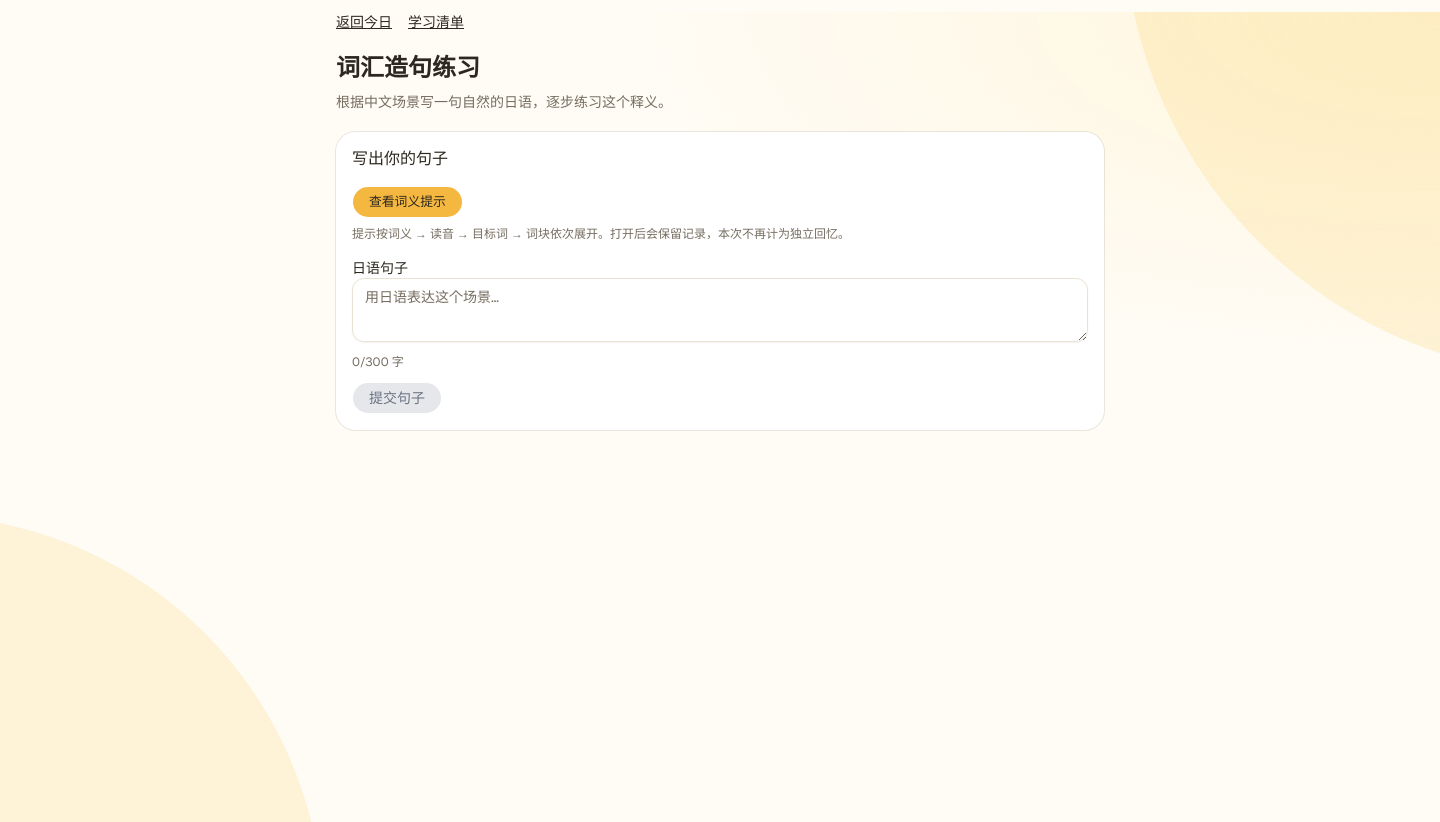
Scenario: membership UI › preserves input across an allowance failure and interface switch
The image size is (1440, 822).
In the text box labelled "日语句子": [720, 310] box [352,278,1088,342], type "予定があります。"
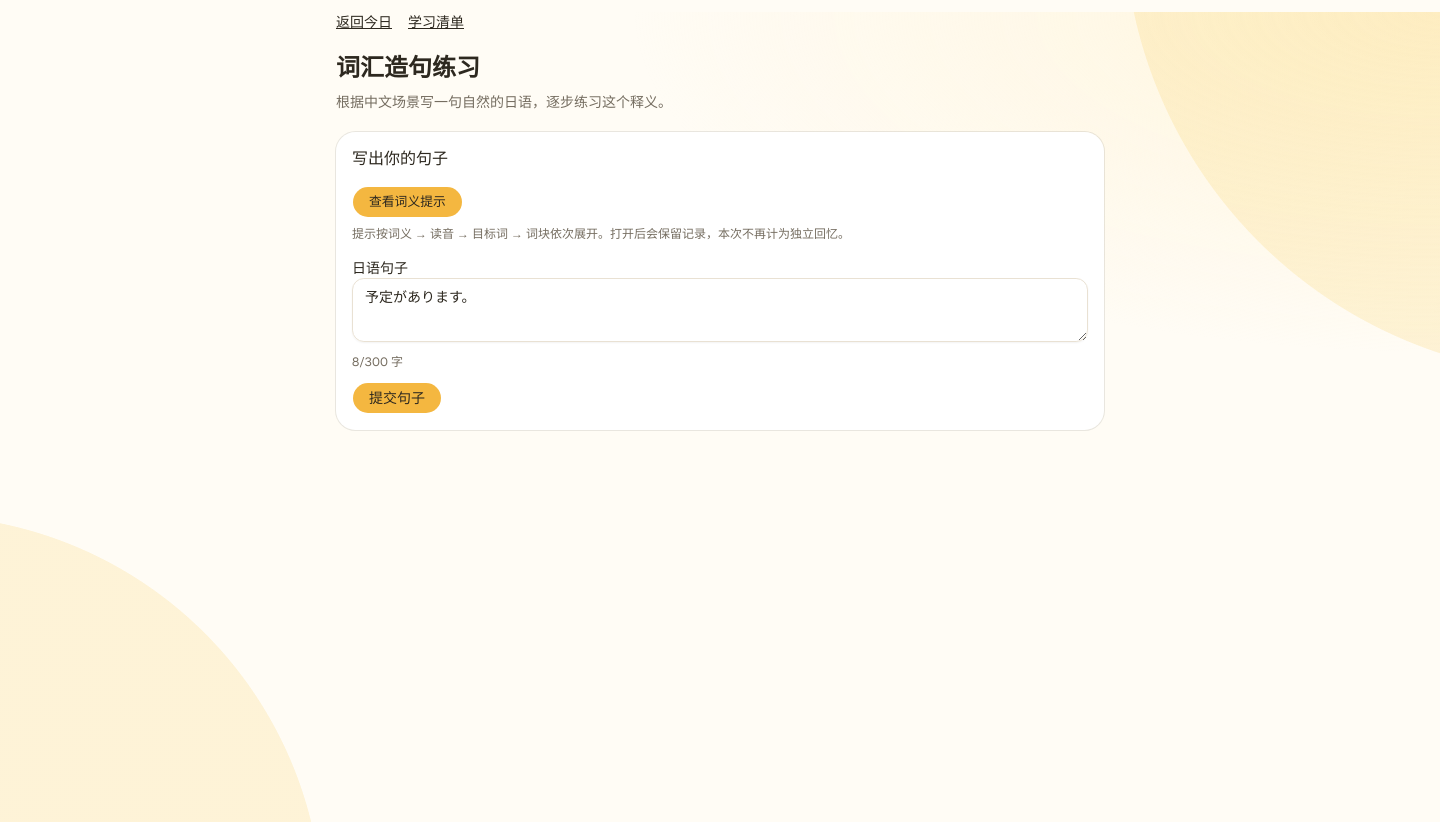
Click the button "提交句子": [397, 398] box [352,382,442,414]
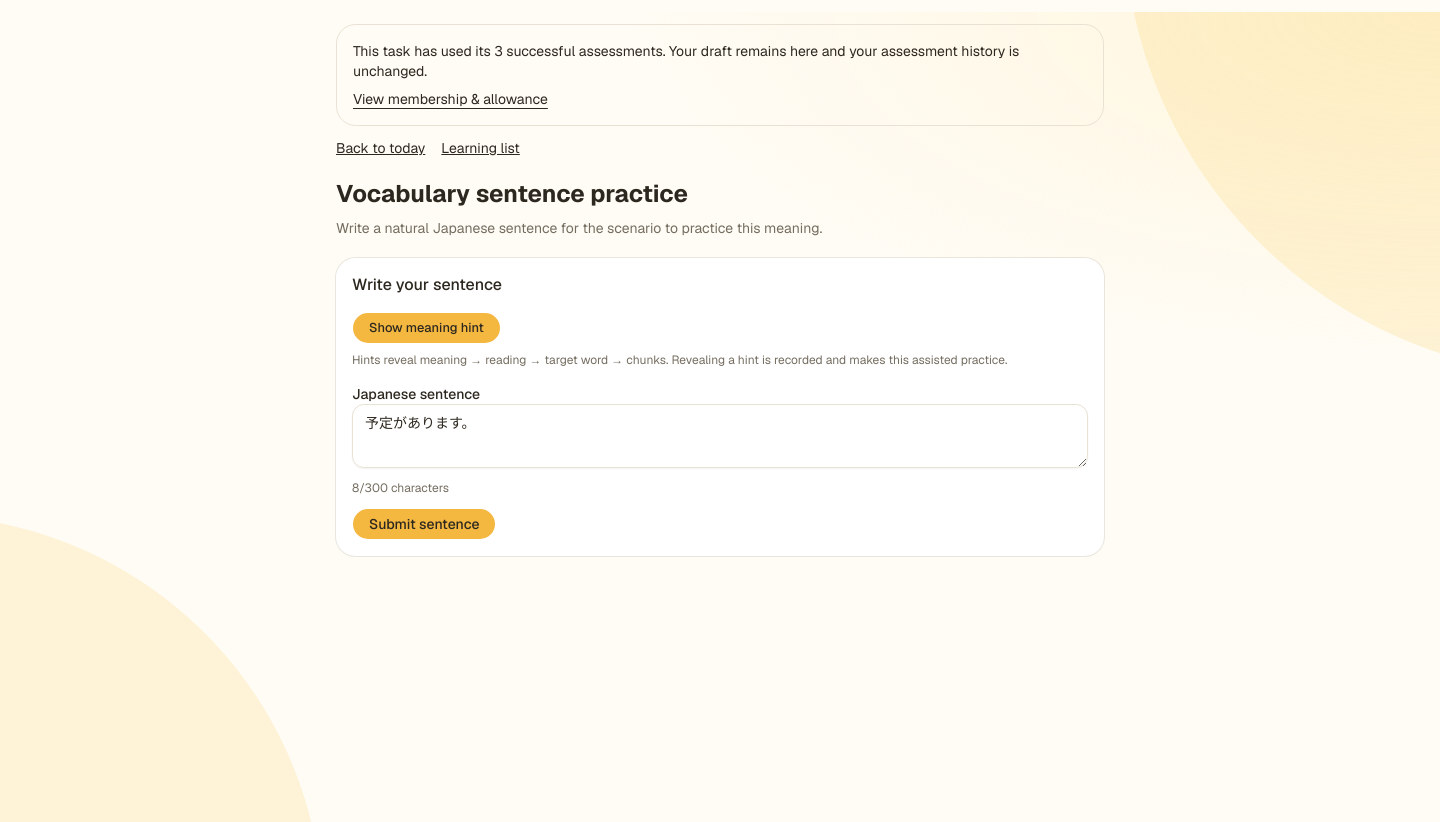
Check: the link "View membership & allowance" is shown, box [353,89,548,109]
